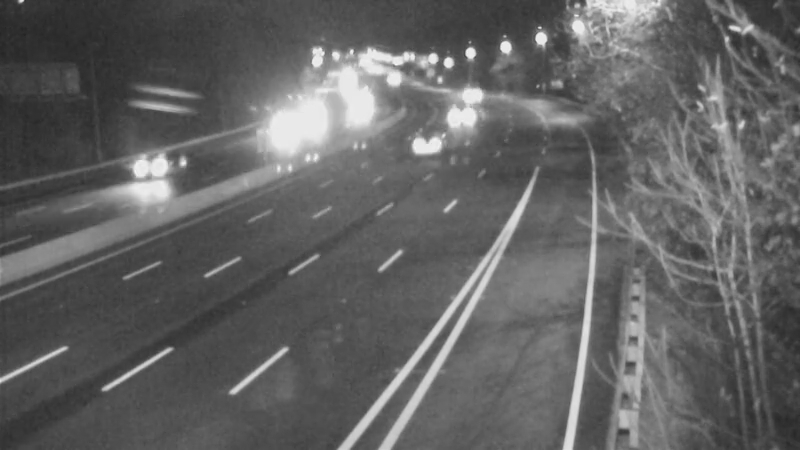vehicle: (112, 132, 192, 212), (438, 67, 488, 117), (442, 92, 492, 142), (400, 118, 450, 168), (260, 104, 310, 154), (334, 81, 384, 131)
